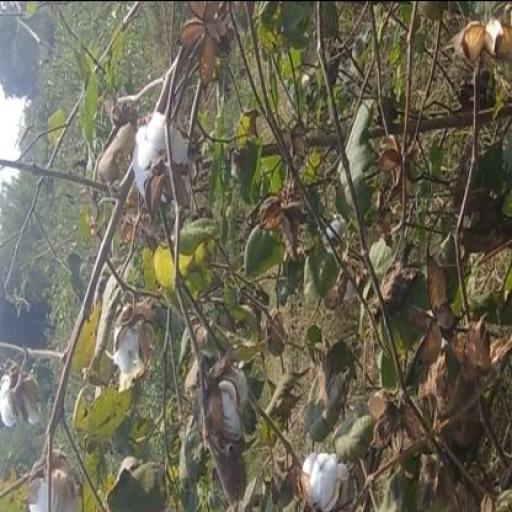cotton_ready: (121, 104, 193, 207), (287, 426, 363, 512), (198, 362, 272, 439), (113, 290, 158, 386)
